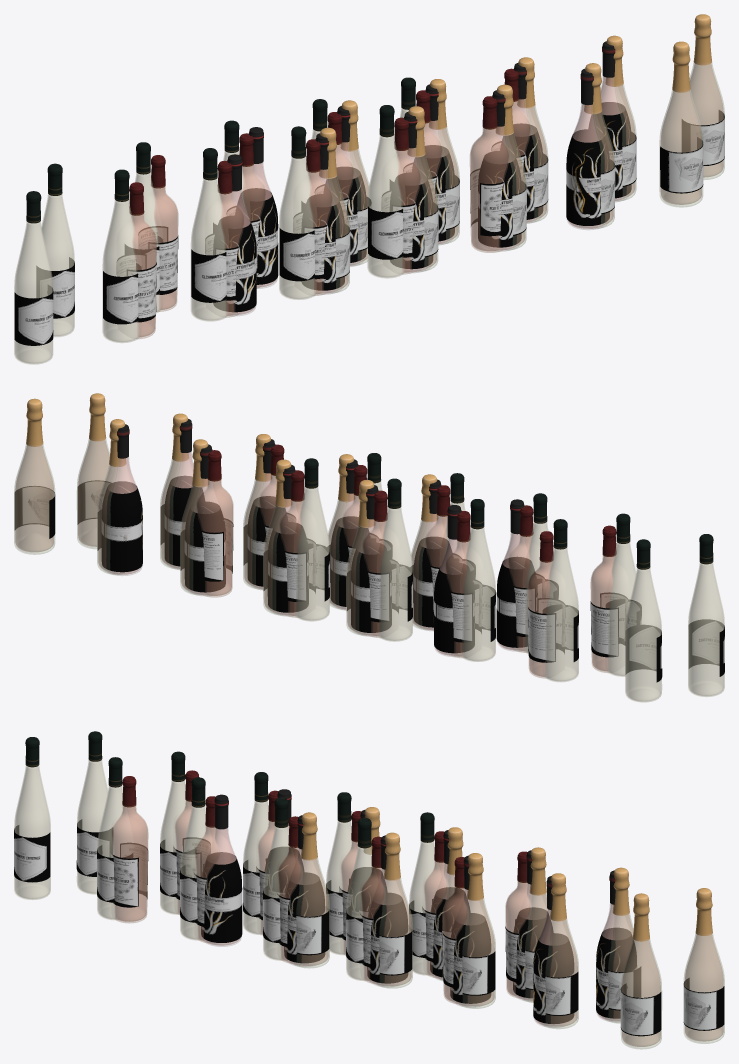
File: stock_wine_row.glb
3 renders of one model, top to bottom at view 1: azimuth 30°, elevation 25°; view 2: azimuth 150°, elevation 25°; view 3: azimuth 330°, elevation 25°, orthographic. The views are drawn at different scales.
Parts seen in each view (by area): view 1: wine_bottles_01_champagne.008, wine_bottles_01_alsace, wine_bottles_01_alsace.002, wine_bottles_01_alsace.008, wine_bottles_01_alsace.006, wine_bottles_01_alsace.004, wine_bottles_01_burgundy.008, wine_bottles_01_bordeaux.008, wine_bottles_01_champagne.009, wine_bottles_01_alsace.001, wine_bottles_01_burgundy, wine_bottles_01_bordeaux (+26 smaller); view 2: wine_bottles_01_champagne.009, wine_bottles_01_alsace.001, wine_bottles_01_alsace, wine_bottles_01_alsace.009, wine_bottles_01_burgundy.009, wine_bottles_01_alsace.003, wine_bottles_01_alsace.007, wine_bottles_01_alsace.005, wine_bottles_01_bordeaux.009, wine_bottles_01_champagne.008, wine_bottles_01_alsace.002, wine_bottles_01_bordeaux.001 (+28 smaller); view 3: wine_bottles_01_champagne.009, wine_bottles_01_champagne.008, wine_bottles_01_alsace, wine_bottles_01_burgundy, wine_bottles_01_bordeaux, wine_bottles_01_champagne.006, wine_bottles_01_champagne.002, wine_bottles_01_champagne, wine_bottles_01_champagne.004, wine_bottles_01_alsace.001, wine_bottles_01_champagne.007, wine_bottles_01_burgundy.008 (+27 smaller).
Boxes of the visible parts, box(x1,y1,x2,y2) form: wine_bottles_01_champagne.008: box(659, 41, 703, 207); wine_bottles_01_alsace: box(14, 191, 53, 364); wine_bottles_01_alsace.002: box(102, 169, 141, 342); wine_bottles_01_alsace.008: box(367, 105, 404, 278); wine_bottles_01_alsace.006: box(279, 126, 315, 299); wine_bottles_01_alsace.004: box(191, 148, 227, 321); wine_bottles_01_burgundy.008: box(566, 68, 609, 229); wine_bottles_01_bordeaux.008: box(470, 96, 509, 252); wine_bottles_01_champagne.009: box(682, 14, 724, 179); wine_bottles_01_alsace.001: box(36, 163, 74, 336); wine_bottles_01_burgundy: box(213, 154, 256, 316); wine_bottles_01_bordeaux: box(117, 182, 156, 338); wine_bottles_01_champagne.009: box(14, 398, 55, 554); wine_bottles_01_alsace.001: box(625, 539, 662, 702); wine_bottles_01_alsace: box(688, 534, 724, 696); wine_bottles_01_alsace.009: box(295, 458, 329, 621); wine_bottles_01_burgundy.009: box(102, 424, 142, 575); wine_bottles_01_alsace.003: box(542, 519, 578, 681); wine_bottles_01_alsace.007: box(378, 478, 412, 641); wine_bottles_01_alsace.005: box(461, 499, 495, 661); wine_bottles_01_bordeaux.009: box(196, 450, 233, 597); wine_bottles_01_champagne.008: box(77, 393, 110, 548); wine_bottles_01_alsace.002: box(605, 513, 641, 676); wine_bottles_01_bordeaux.001: box(528, 531, 565, 678); wine_bottles_01_champagne.009: box(683, 888, 724, 1043); wine_bottles_01_champagne.008: box(620, 893, 661, 1049); wine_bottles_01_alsace: box(14, 737, 50, 899); wine_bottles_01_burgundy: box(201, 794, 242, 946); wine_bottles_01_bordeaux: box(111, 776, 148, 923); wine_bottles_01_champagne.006: box(543, 873, 578, 1028); wine_bottles_01_champagne.002: box(376, 832, 412, 988); wine_bottles_01_champagne: box(293, 812, 329, 968); wine_bottles_01_champagne.004: box(459, 853, 495, 1008); wine_bottles_01_alsace.001: box(76, 731, 112, 894); wine_bottles_01_champagne.007: box(605, 867, 640, 1023); wine_bottles_01_burgundy.008: box(533, 876, 573, 1027).
Bounding box in the file's own units: 1.48 × 0.32 × 0.1578.
Materials: 120 (90 with a texture image).
